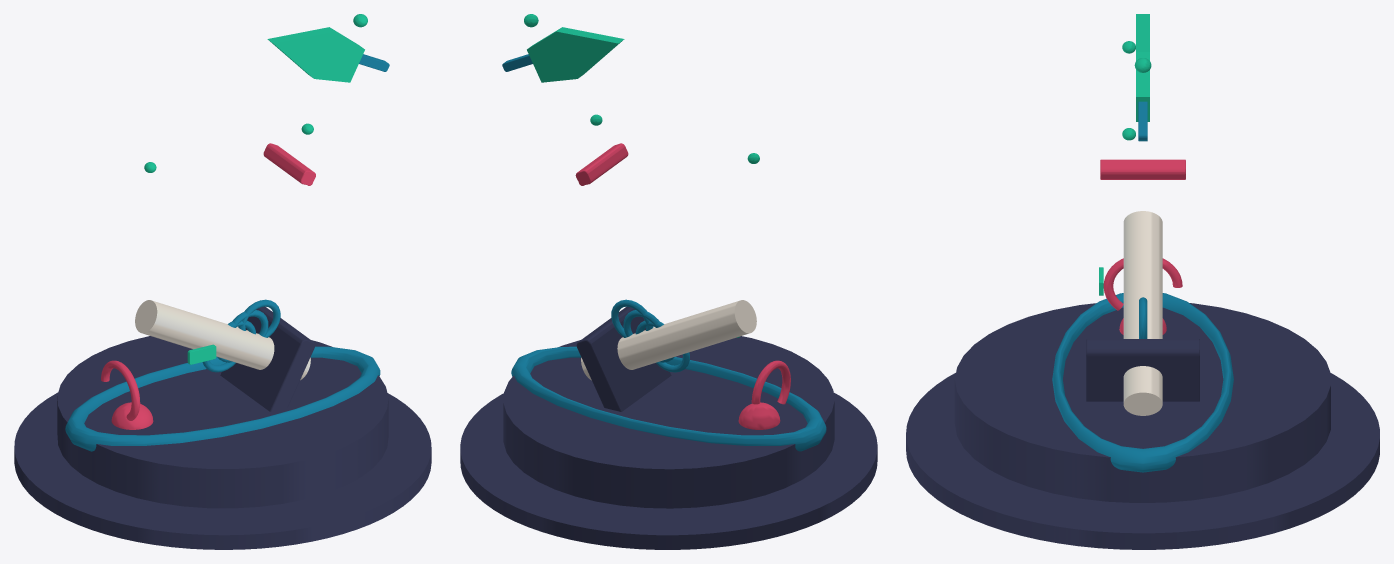
Rendered from 0461_机械图鉴_千斤顶.glb.
3 views of the same model, side by side, from view 1: azimuth 30°, elevation 25°; view 2: azimuth 150°, elevation 25°; view 3: azimuth 270°, elevation 25° (orthographic). The views are drawn at different scales.
Visible parts, largest first — view 1: card_0461; view 2: card_0461; view 3: card_0461.
Part boxes in pixels (left/top/right/bottom): card_0461: left=14, top=14, right=431, bottom=549; card_0461: left=460, top=14, right=877, bottom=549; card_0461: left=906, top=14, right=1379, bottom=549.
Bounding box in the file's own units: 0.8986 × 1 × 0.9032.
